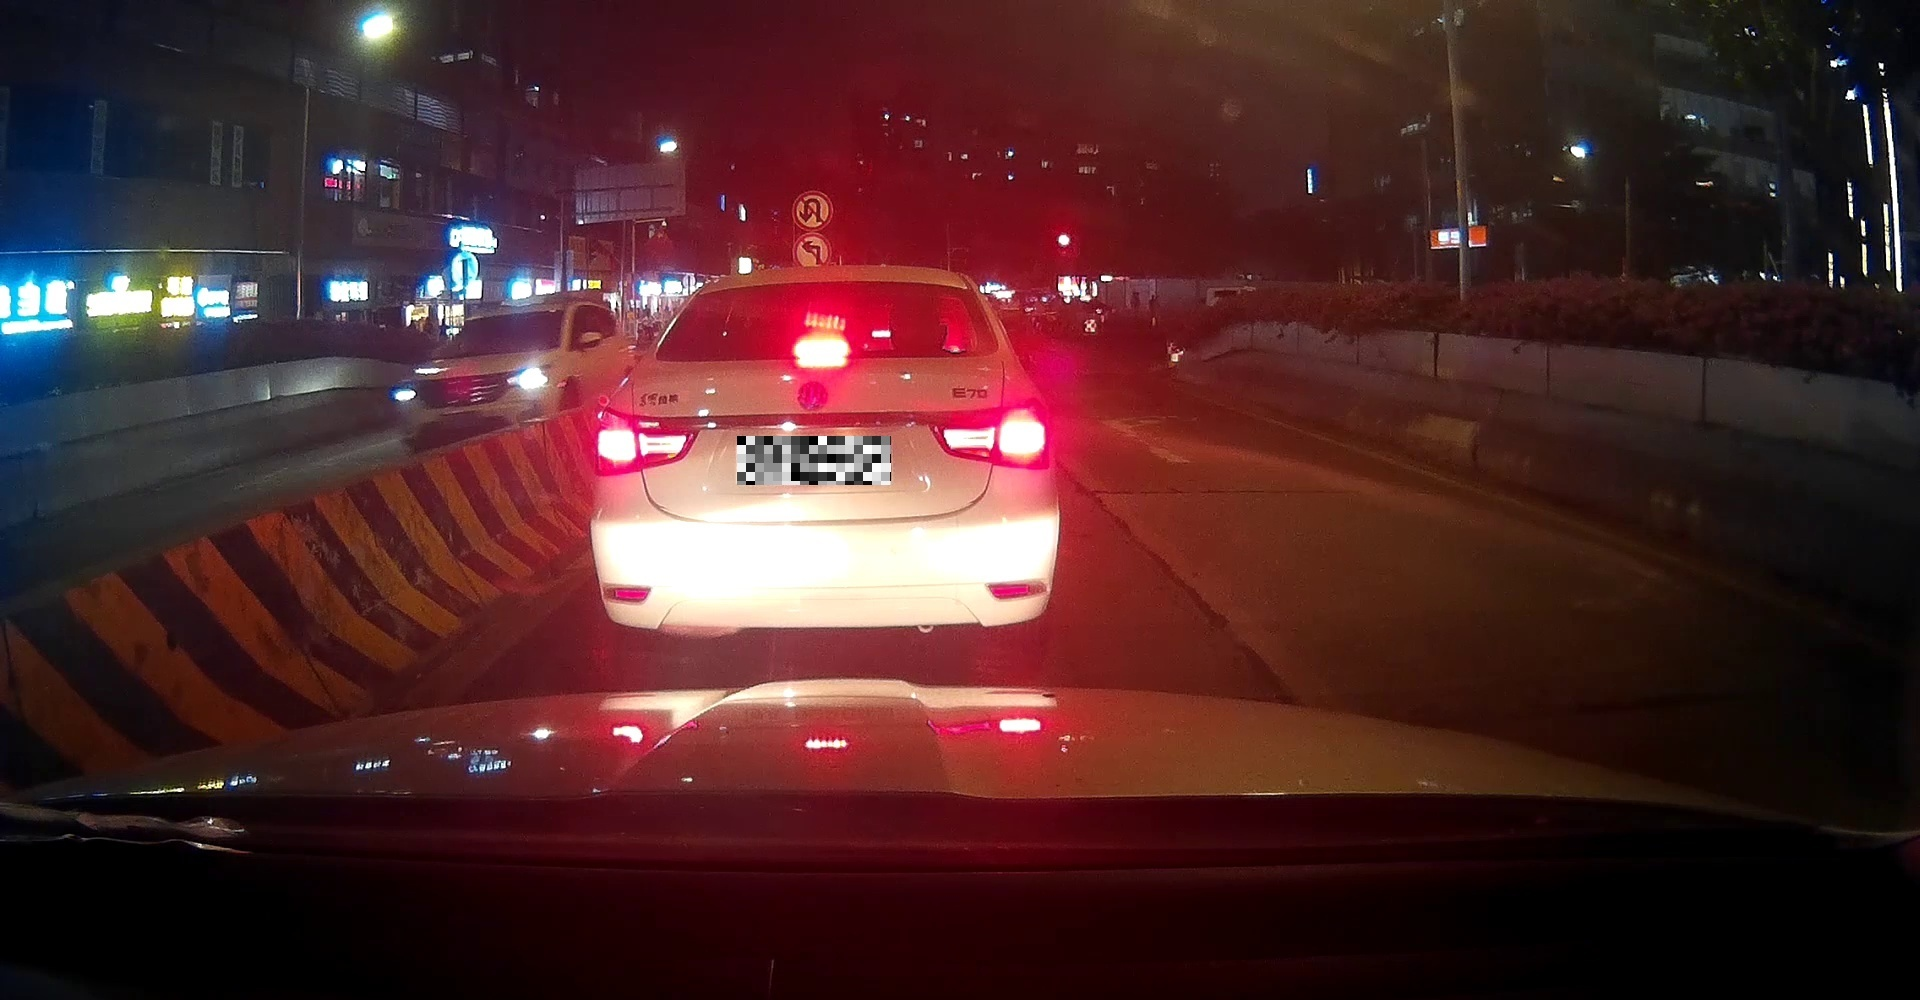L_light: (590, 406, 698, 476)
R_light: (928, 398, 1050, 470)
T_light: (791, 341, 852, 360)
night-brake: (590, 265, 1055, 665)
plate_1: (737, 437, 891, 485)
